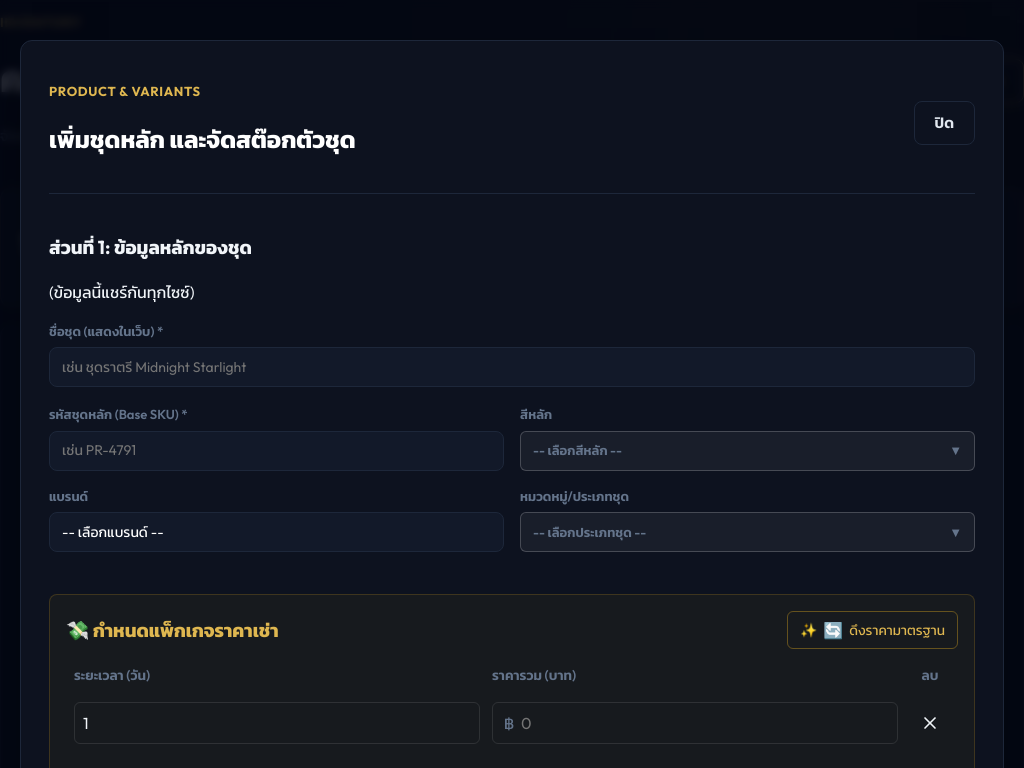
Test: InventoryPage › lets users select multiple colors in the product form
Click the button "-- เลือกสีหลัก -- ▼": click(578, 450) [520, 431, 975, 471]
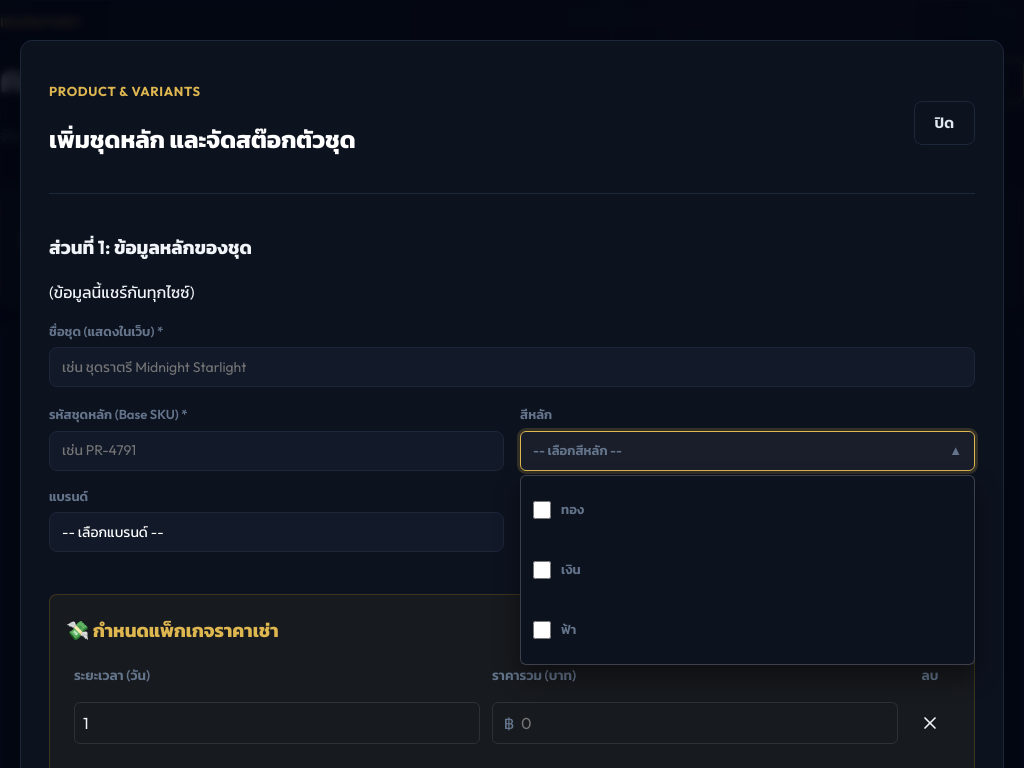
Click the option "ทอง": click(542, 510) [521, 480, 974, 540]
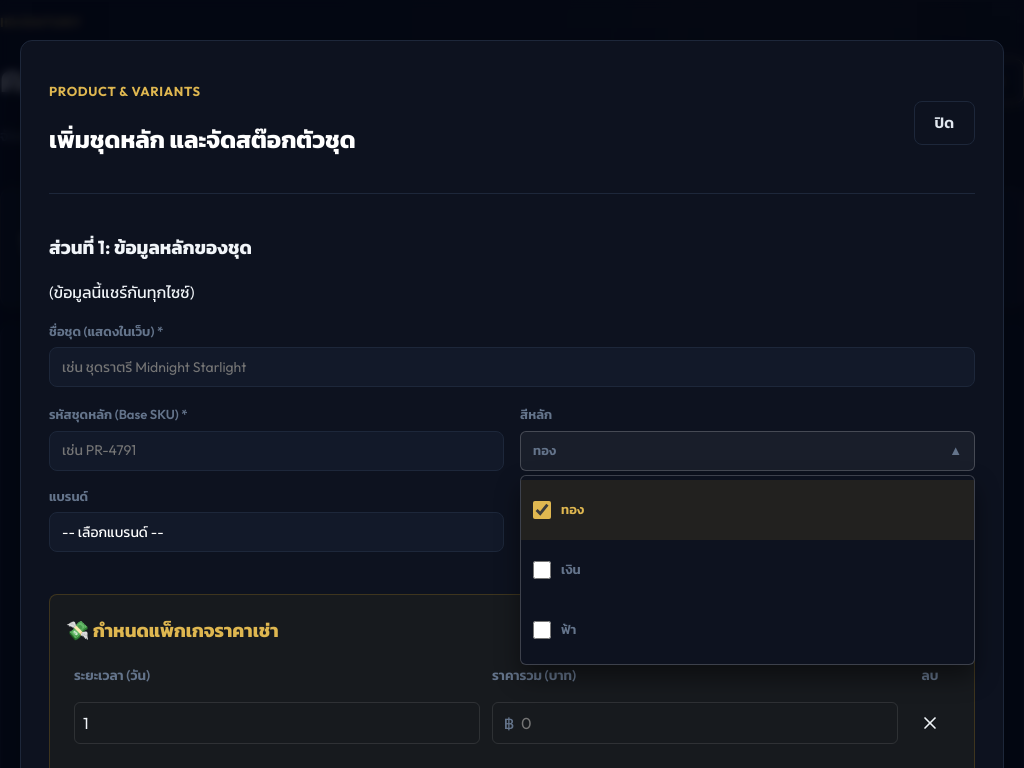
Result: the button named "สีหลัก" shows "ทอง" at [520, 431, 975, 471]
Click the option "เงิน": click(542, 570) [521, 540, 974, 600]
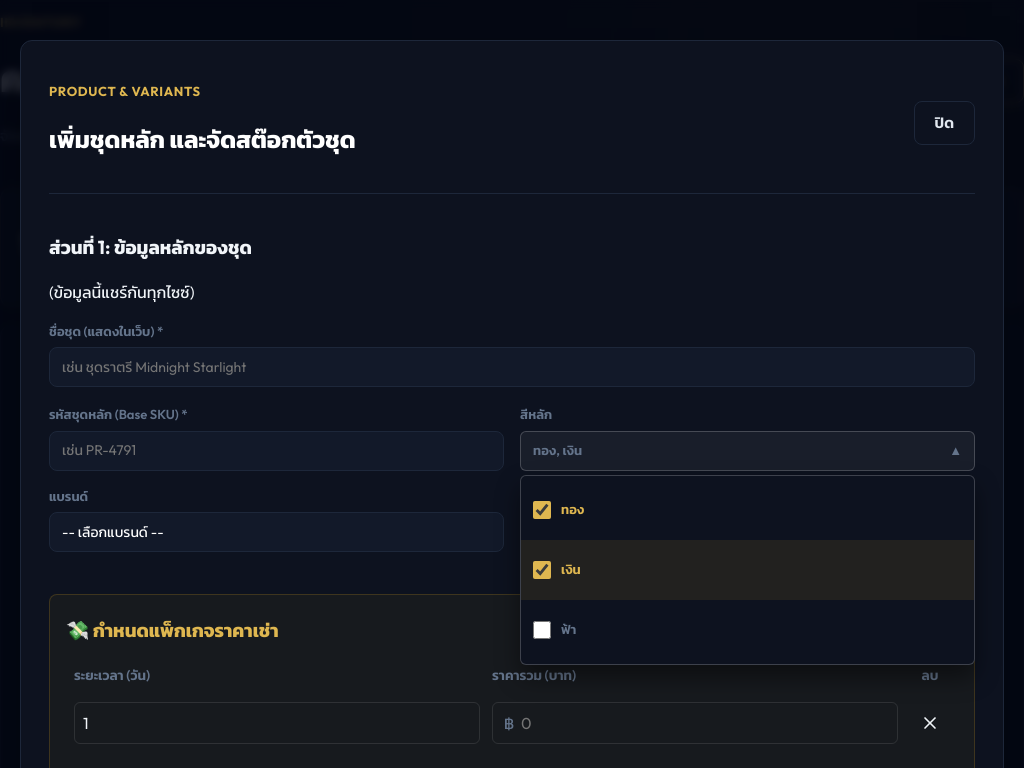
Result: the button named "สีหลัก" shows "ทอง, เงิน" at [520, 431, 975, 471]
